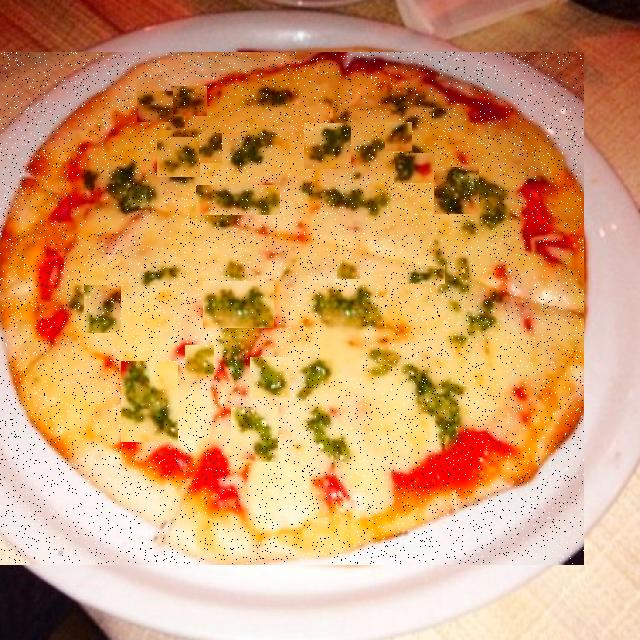Basil: (121, 362, 178, 442), (321, 292, 363, 379), (203, 282, 274, 328), (74, 173, 127, 233), (231, 408, 278, 462), (196, 186, 280, 215), (304, 124, 351, 169), (434, 168, 479, 214), (84, 286, 121, 333), (158, 138, 202, 177), (250, 358, 290, 398), (114, 248, 150, 292), (346, 193, 387, 227), (394, 154, 435, 183), (289, 80, 334, 106), (171, 88, 207, 118), (137, 92, 173, 122), (496, 286, 523, 322), (185, 346, 214, 379), (480, 162, 508, 194), (385, 123, 412, 151), (407, 267, 445, 284), (200, 134, 222, 163), (337, 261, 360, 279), (166, 115, 185, 132), (116, 333, 136, 347)
Pizza: (0, 52, 584, 564)
